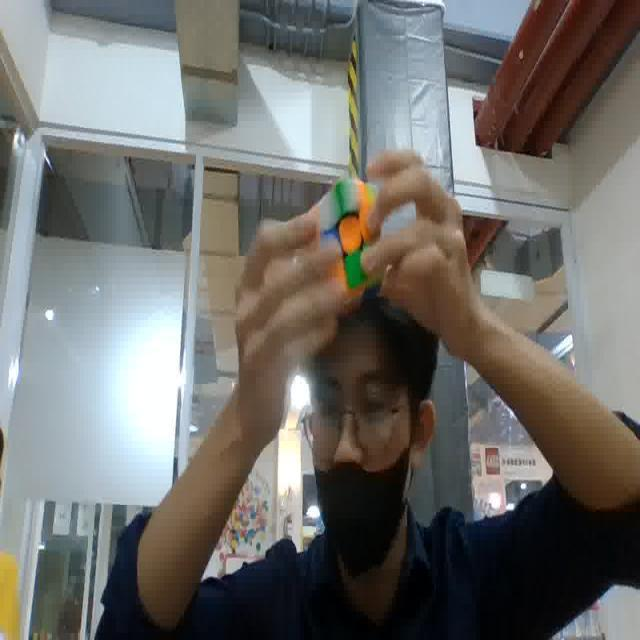Rub: (306, 173, 384, 308)
